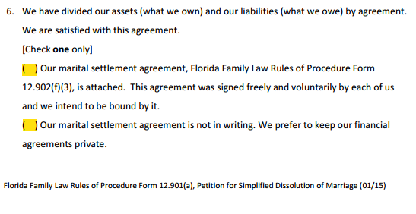checkbox: (23, 120, 38, 132), (22, 64, 38, 75)
